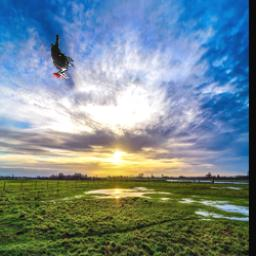Woodpecker: (51, 34, 74, 78)
